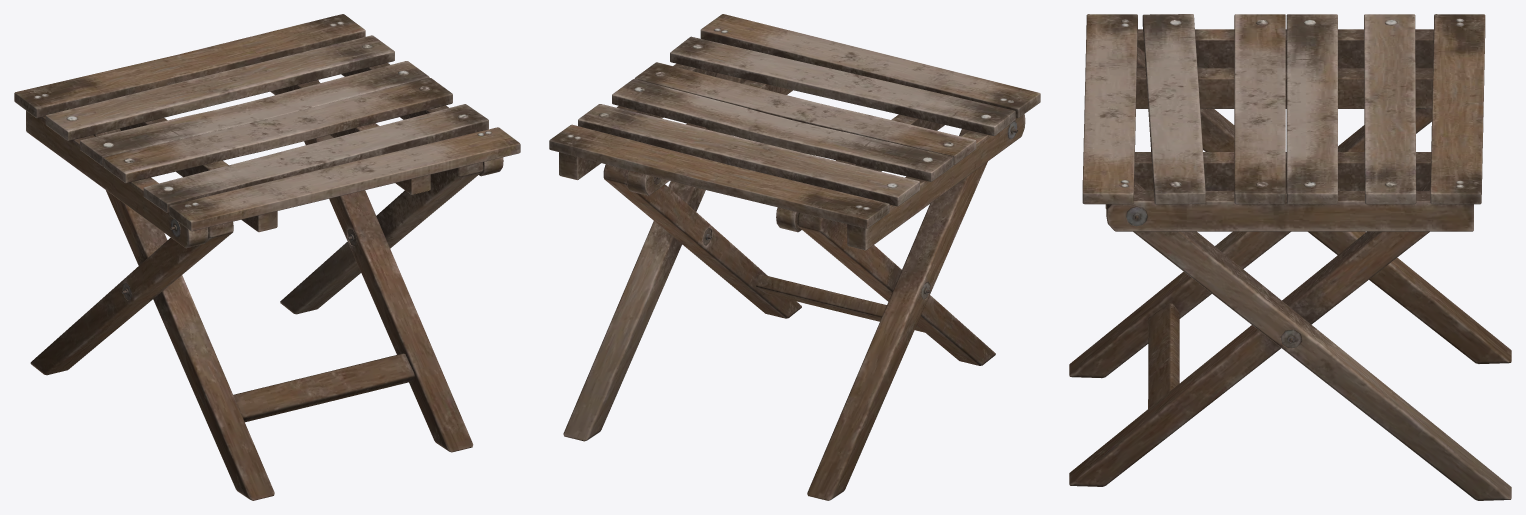
The model's file is folding_wooden_stool_4k-transformed.glb.
3 renders of one model, left to right at view 1: azimuth 30°, elevation 25°; view 2: azimuth 150°, elevation 25°; view 3: azimuth 270°, elevation 25°, orthographic. The views are drawn at different scales.
Parts seen in each view (by area): view 1: folding_wooden_stool; view 2: folding_wooden_stool; view 3: folding_wooden_stool.
Part boxes in pixels (<box>): folding_wooden_stool: <box>14,14,520,500</box>; folding_wooden_stool: <box>549,14,1040,500</box>; folding_wooden_stool: <box>1069,14,1511,500</box>.
Size of the model in its own units: 0.5278 by 0.442 by 0.5471.
Materials: 1 (1 with a texture image).
